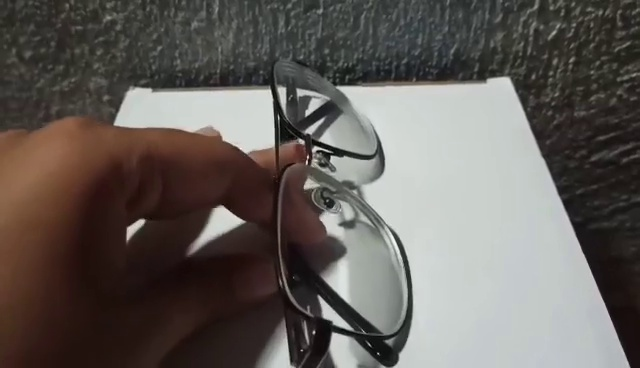glasses: (266, 46, 415, 368)
hand: (1, 115, 321, 368)
